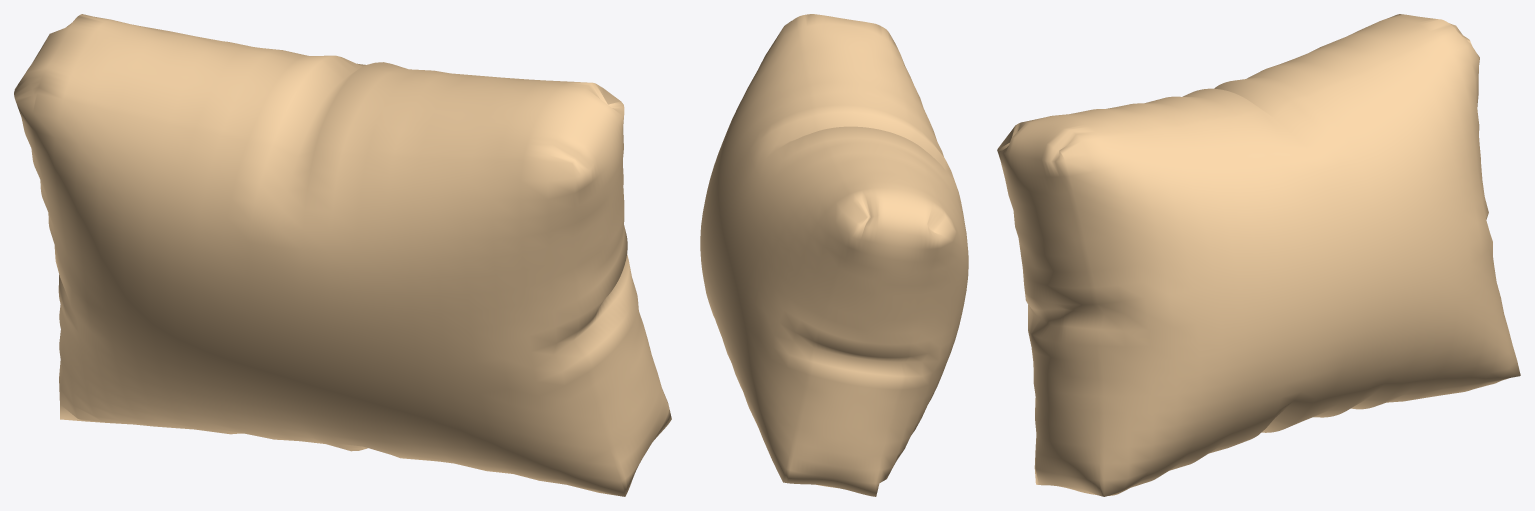
File: coussin7.glb
3 renders of one model, left to right at view 1: azimuth 30°, elevation 25°; view 2: azimuth 150°, elevation 25°; view 3: azimuth 270°, elevation 25°, orthographic. The views are drawn at different scales.
Parts seen in each view (by area): view 1: Coussin.007; view 2: Coussin.007; view 3: Coussin.007.
Boxes of the visible parts, left/top/right/bottom form: Coussin.007: left=14, top=14, right=671, bottom=496; Coussin.007: left=700, top=14, right=968, bottom=496; Coussin.007: left=997, top=14, right=1520, bottom=496.
Bounding box in the file's own units: 4.29 × 3.58 × 4.68.
